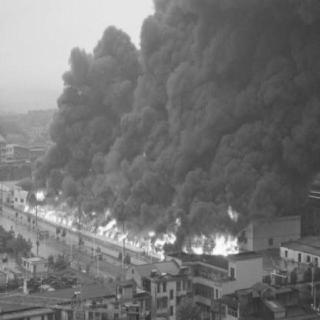Fire: (32, 176, 238, 257)
Smoke: (34, 4, 316, 206)
